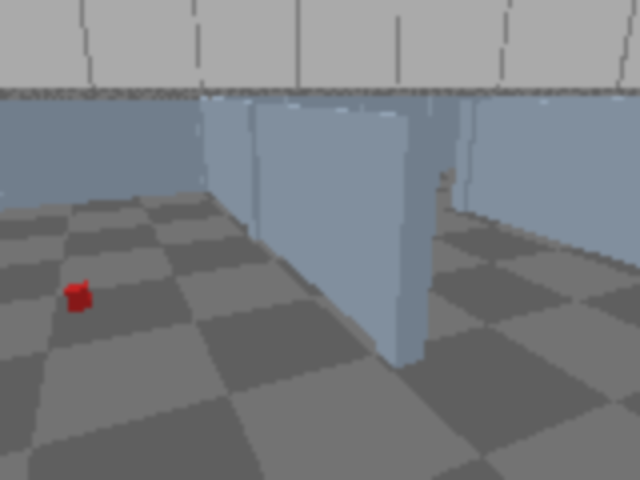puck: (65, 281, 92, 312)
